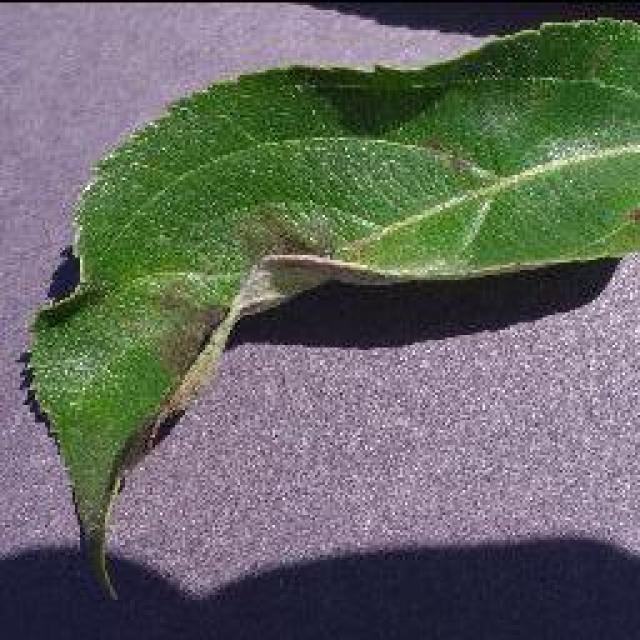apple scab disease: (15, 12, 637, 602)
